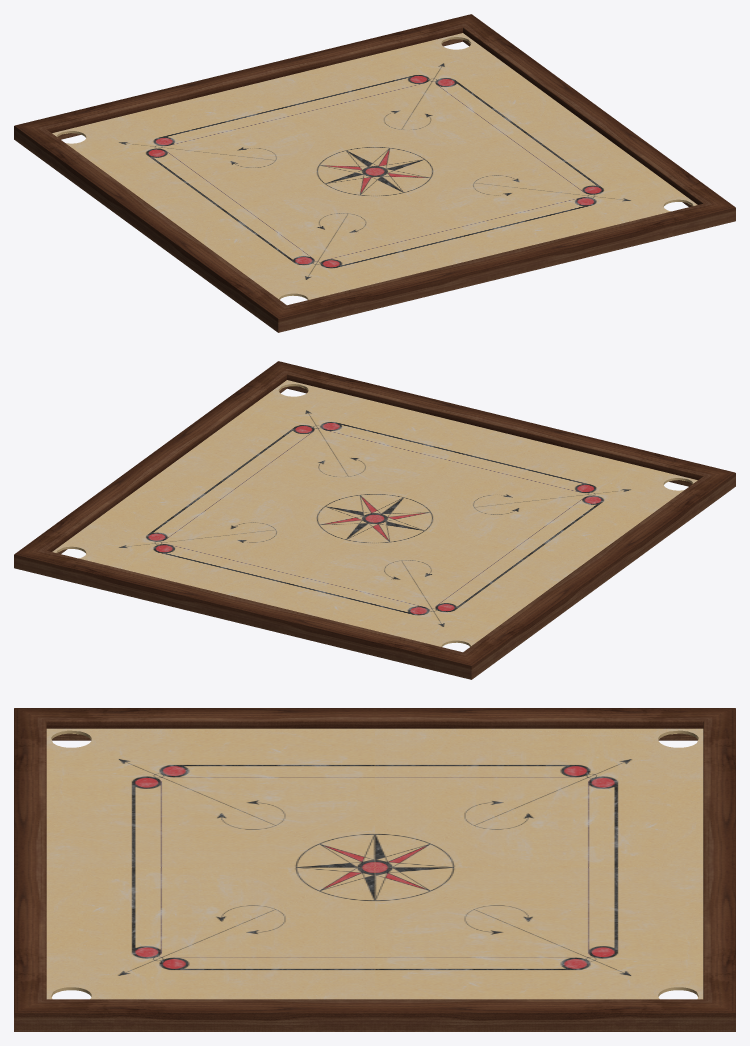
The model's file is board.glb.
The picture shows the model from 3 angles, top to bottom: view 1: azimuth 30°, elevation 25°; view 2: azimuth 150°, elevation 25°; view 3: azimuth 270°, elevation 25°; orthographic projection. The views are drawn at different scales.
Visible parts, largest first — view 1: Plane_1; view 2: Plane_1; view 3: Plane_1.
Part boxes in pixels (bbox=[...]): Plane_1: bbox=[14, 14, 735, 332]; Plane_1: bbox=[14, 361, 735, 679]; Plane_1: bbox=[14, 708, 735, 1031].
Size of the model in its own units: 4.4 by 0.13 by 4.4.
2 materials, 2 textured.
